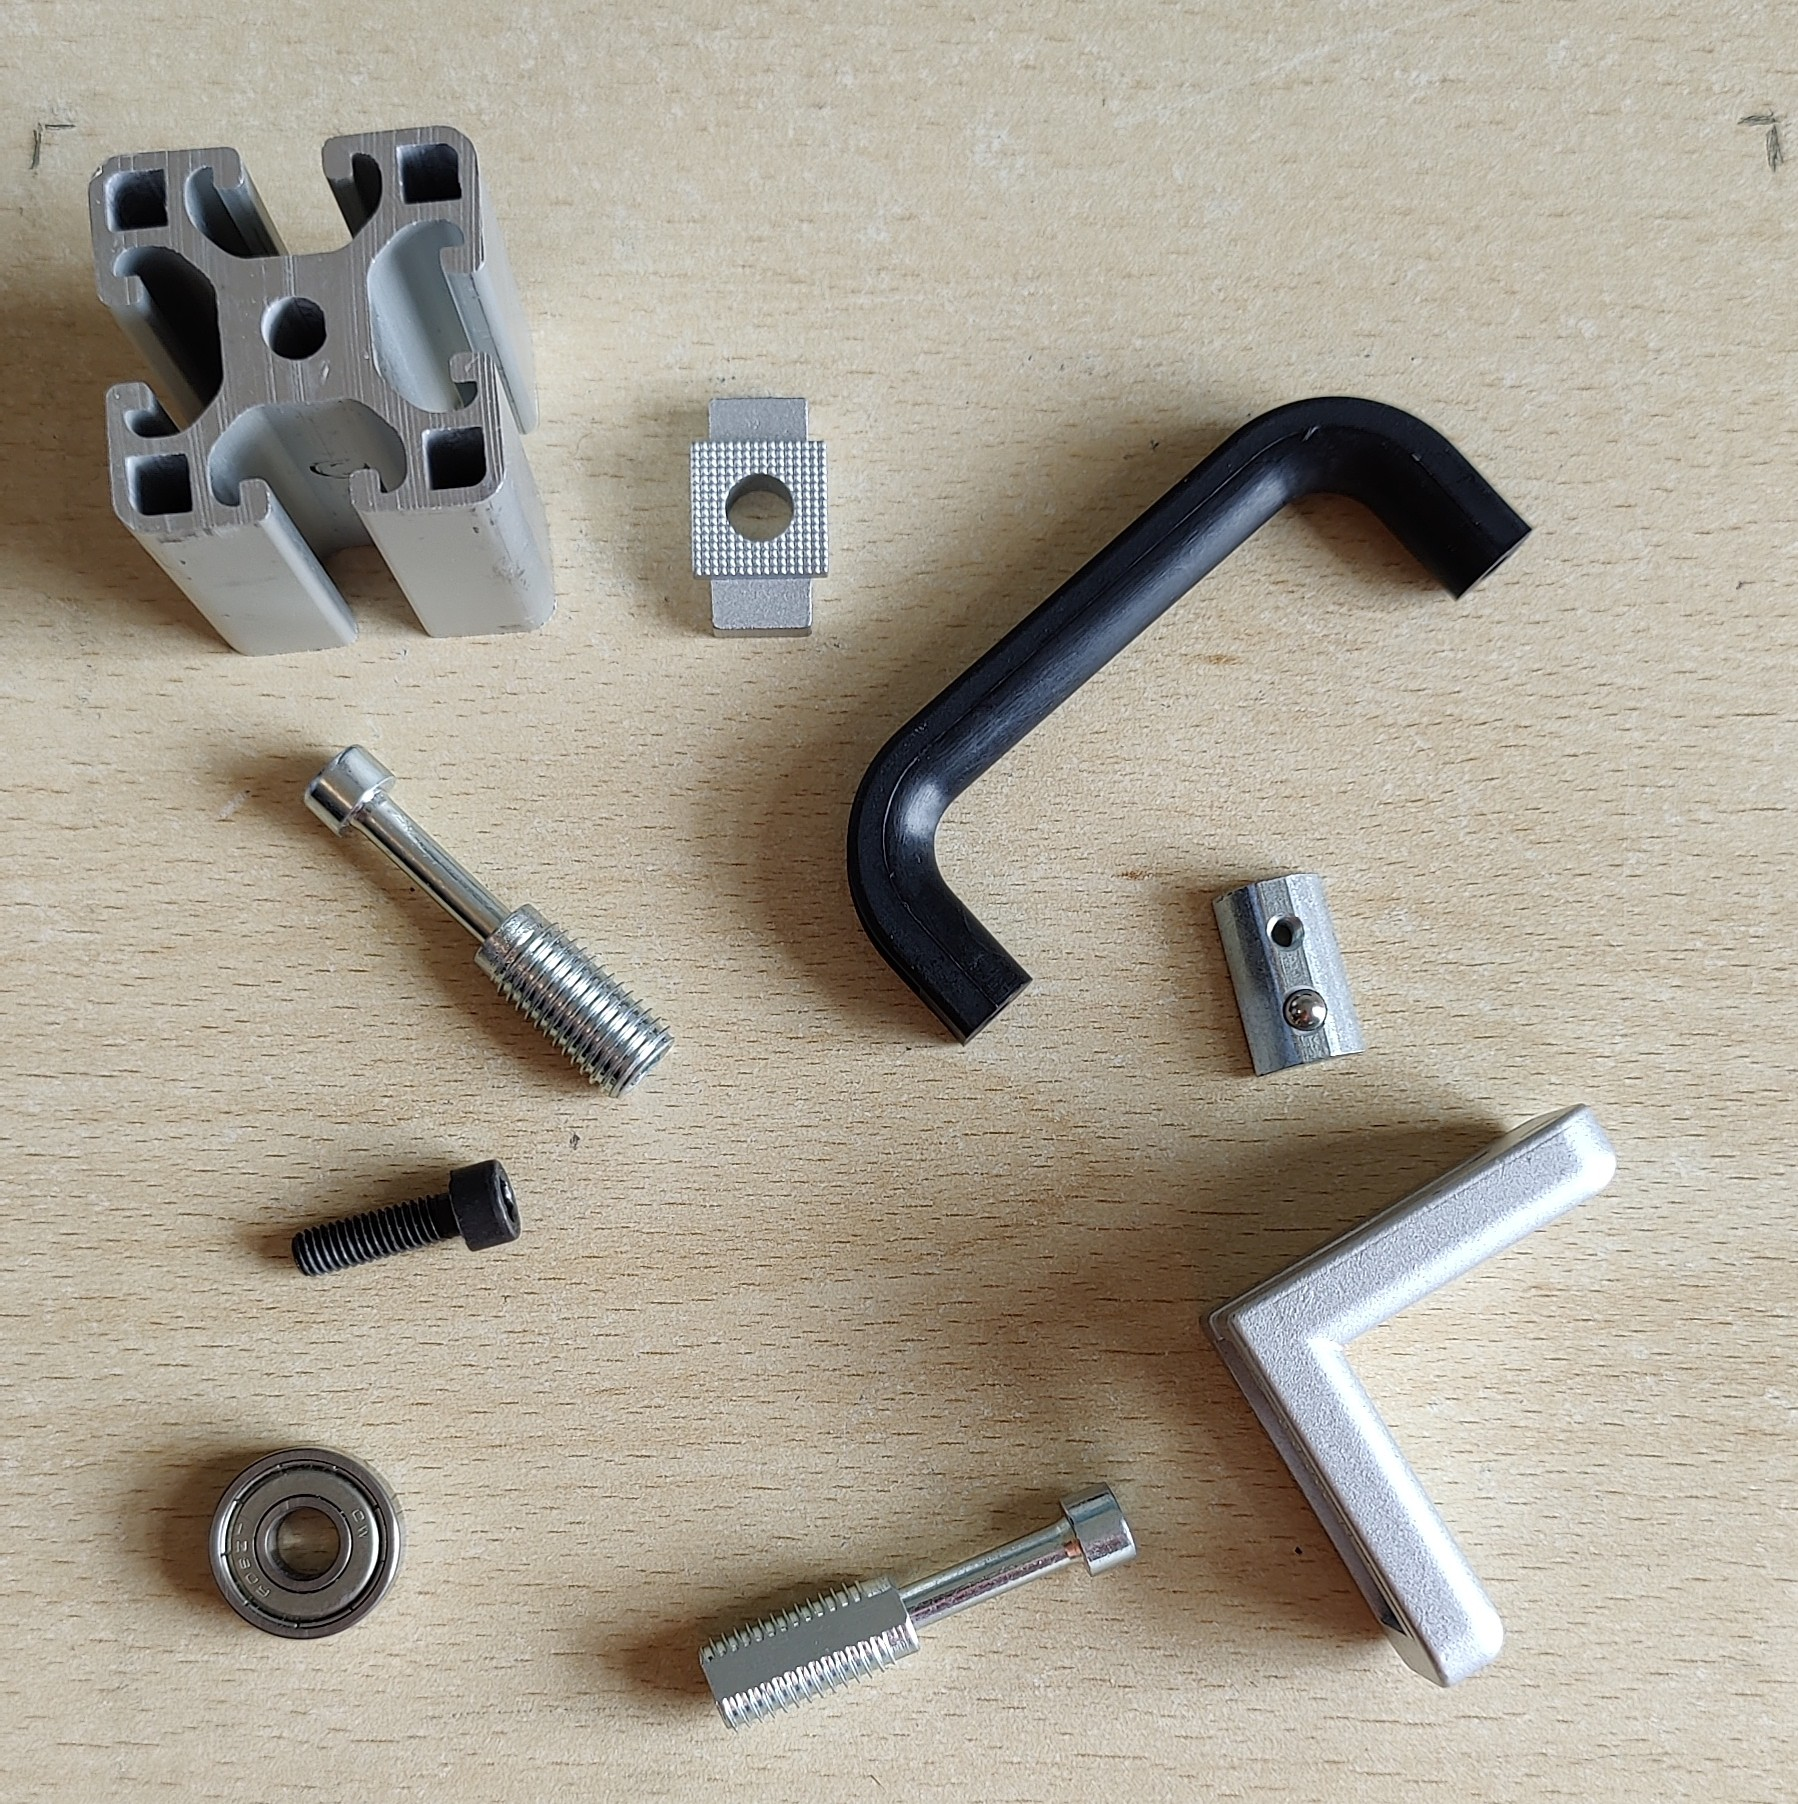Aluminium Extension: (86, 120, 553, 658)
Ball Bearing: (204, 1444, 408, 1643)
Multiwinkel: (1197, 1100, 1619, 1689)
Pull Handle: (846, 392, 1531, 1048)
Shoulder Socket Head Cap Screw: (300, 737, 675, 1103), (695, 1478, 1141, 1735)
Socket Head Cap Screw: (288, 1155, 522, 1281)
T Nut Square: (687, 392, 830, 644)
T Spring Nut: (1209, 869, 1368, 1076)
